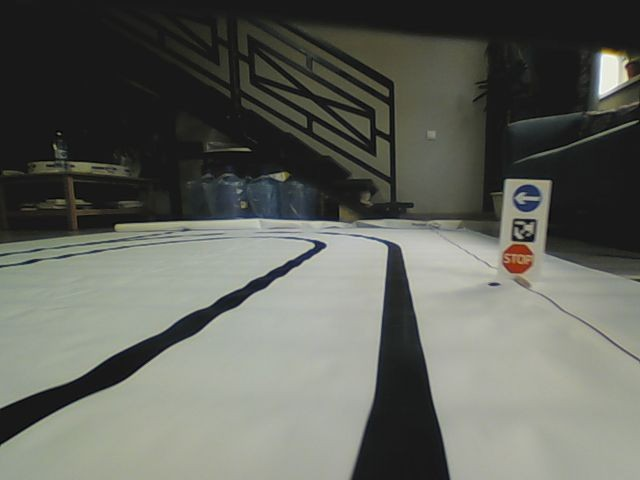Stop: (502, 243, 535, 275)
